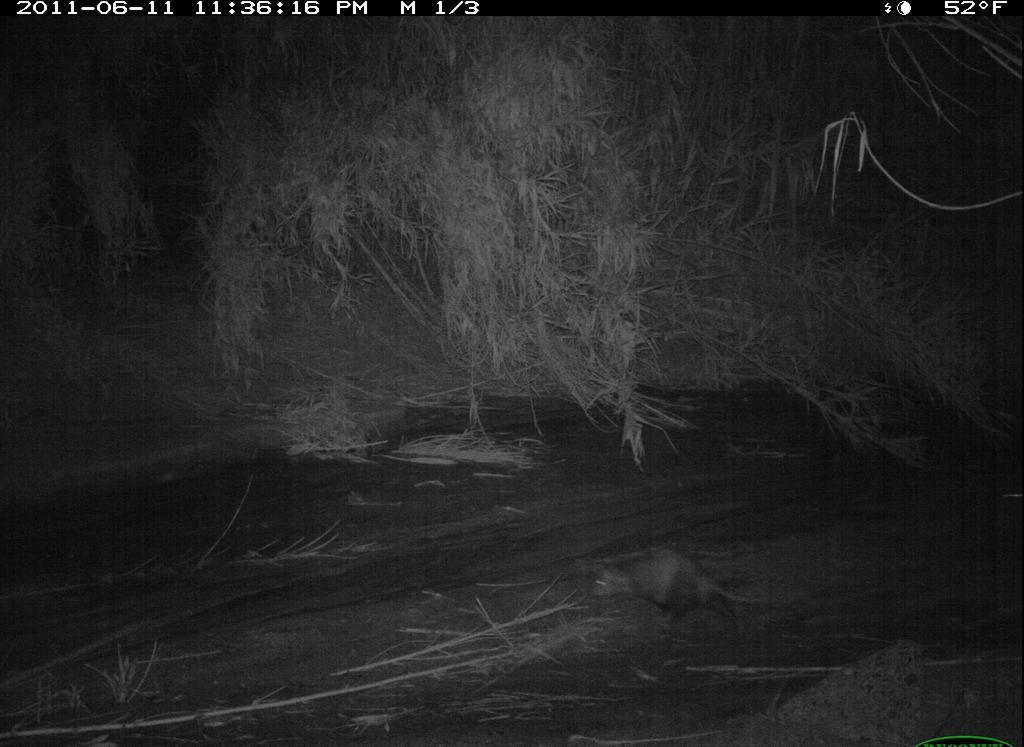opossum: (570, 530, 794, 657)
